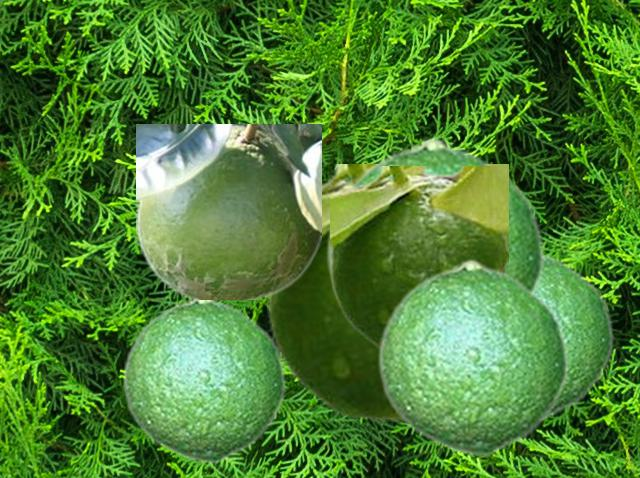dalandan: (267, 164, 507, 420), (324, 136, 544, 312), (376, 258, 568, 456), (330, 166, 507, 350), (136, 124, 320, 298), (121, 298, 285, 463), (537, 251, 613, 420)
